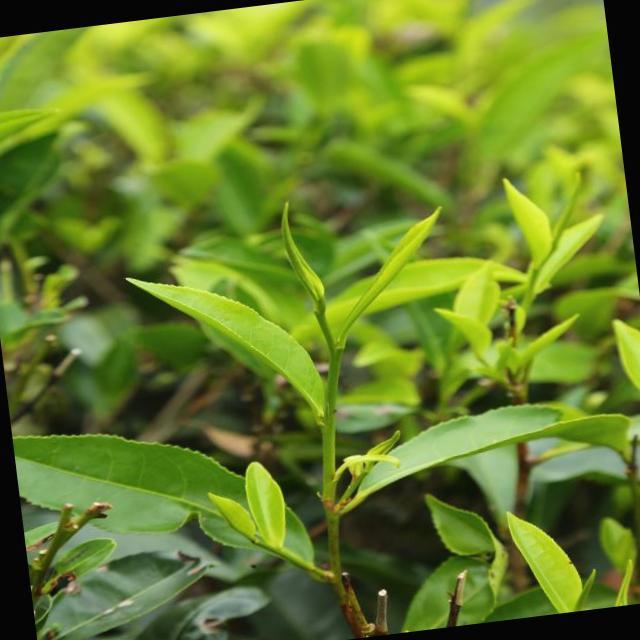Stem: (331, 351, 341, 365)
